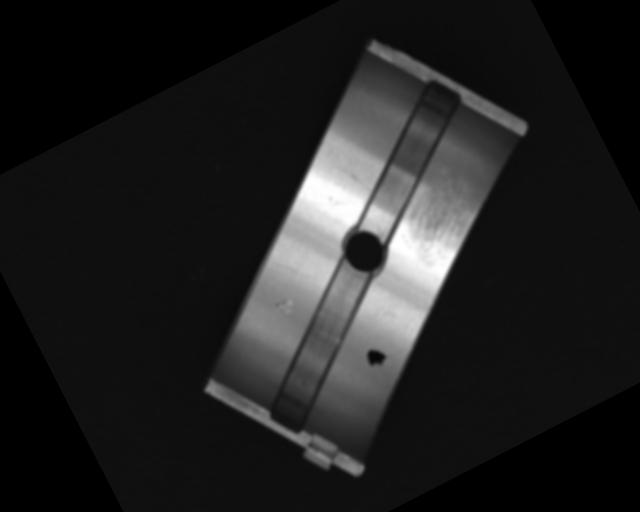blot: (362, 343, 391, 372)
bruise: (270, 294, 297, 319)
gap: (229, 256, 415, 433), (319, 71, 498, 237)
hole: (334, 220, 395, 282)
nick: (332, 150, 372, 202), (277, 253, 313, 289)
scratch: (388, 167, 498, 272)
